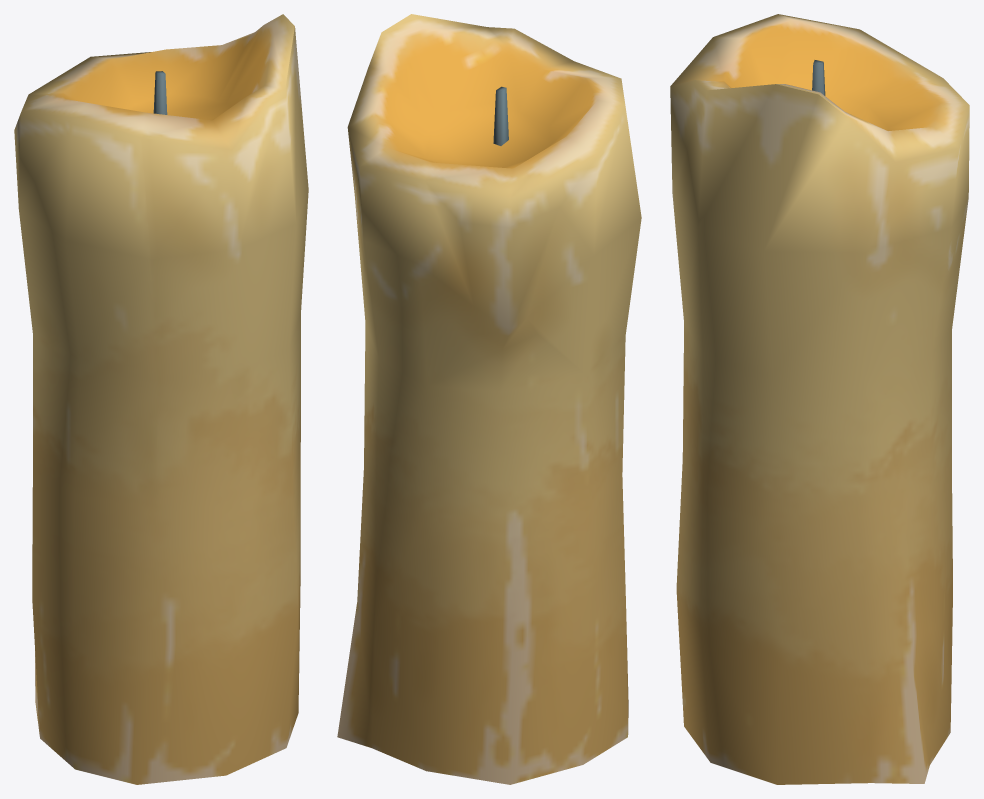
Rendered from candle-2.glb.
The picture shows the model from 3 angles, left to right: view 1: azimuth 30°, elevation 25°; view 2: azimuth 150°, elevation 25°; view 3: azimuth 270°, elevation 25°; orthographic projection. The views are drawn at different scales.
Parts seen in each view (by area): view 1: Candle_2; view 2: Candle_2; view 3: Candle_2.
Part boxes in pixels (left/top/right/bottom): Candle_2: left=14, top=14, right=308, bottom=784; Candle_2: left=337, top=14, right=641, bottom=784; Candle_2: left=670, top=14, right=969, bottom=784.
Size of the model in its own units: 0.0944 by 0.2511 by 0.0975.
Materials: 1 (1 with a texture image).
